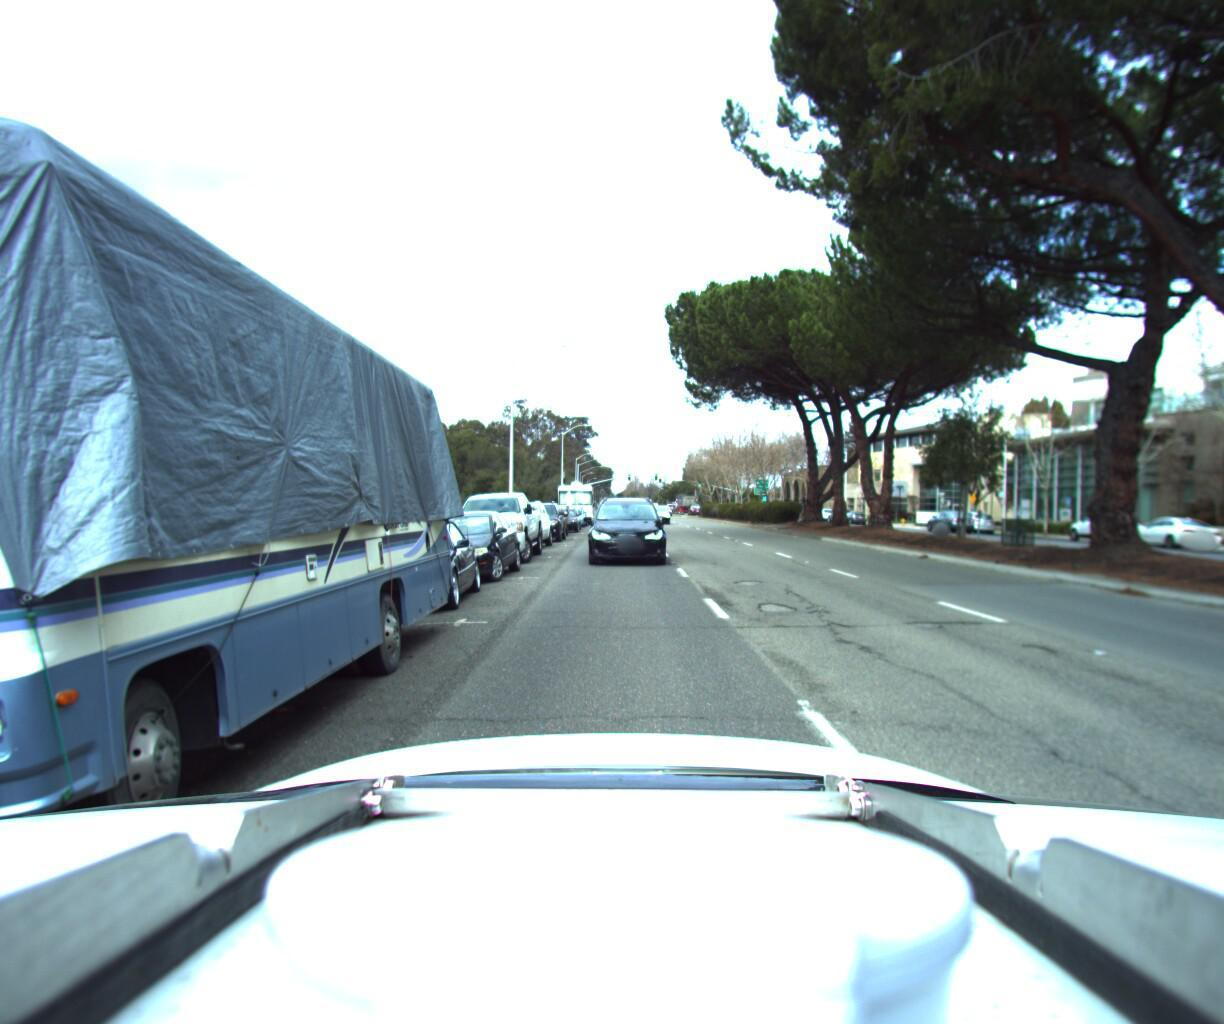bus: (555, 476, 593, 517)
car: (328, 514, 484, 618), (397, 503, 525, 585), (450, 485, 543, 562), (583, 490, 662, 564), (1120, 509, 1224, 546), (488, 492, 550, 547), (1062, 504, 1145, 540), (517, 493, 565, 541), (524, 499, 569, 534), (914, 503, 969, 526), (947, 505, 997, 528), (546, 500, 578, 528), (558, 498, 587, 522), (644, 498, 670, 519)
